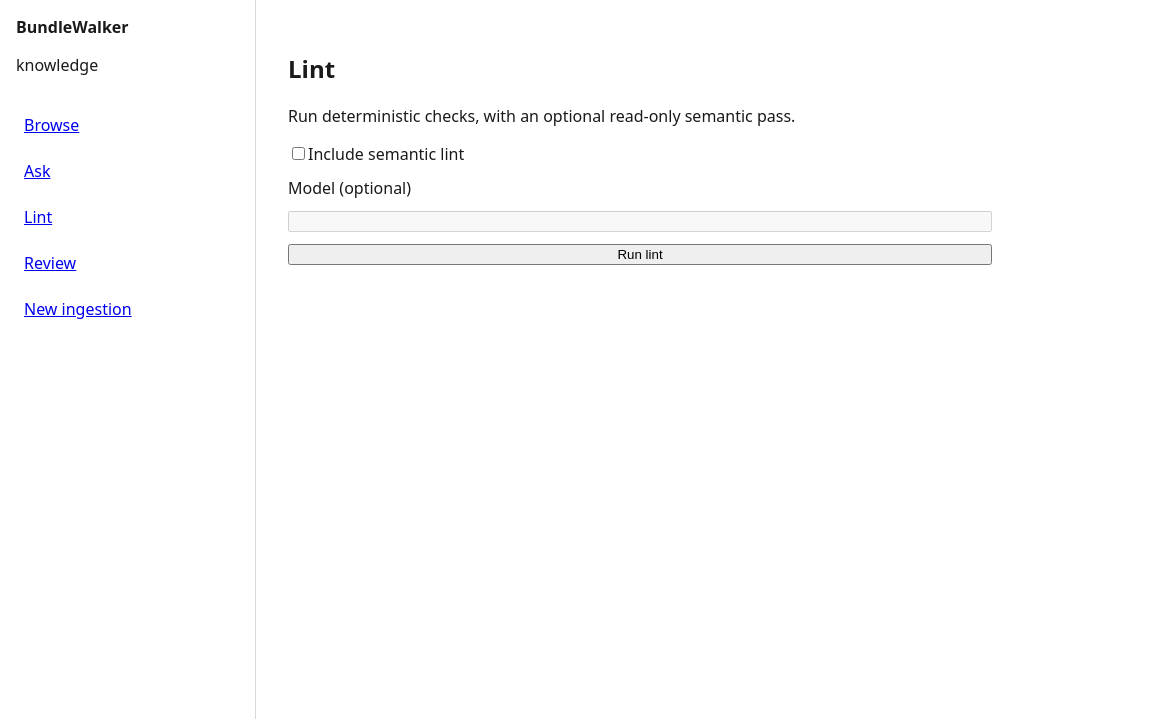
Test: shows lint progress and prevents duplicate runs
Click the button "Run lint" at (640,254), box [288,244,992,265]
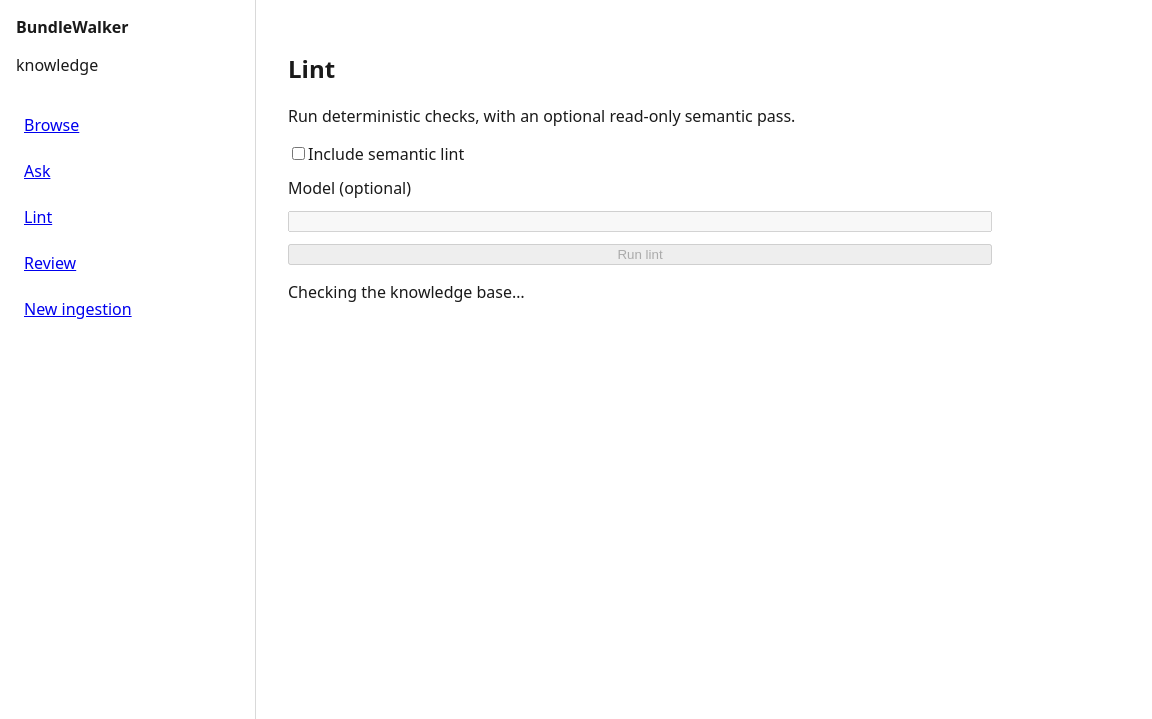
Check: the button "Run lint" is disabled
Check: the message shows "Checking the knowledge base", box [288,281,525,303]
Click the button "Run lint" at (640,254), box [288,244,992,265]
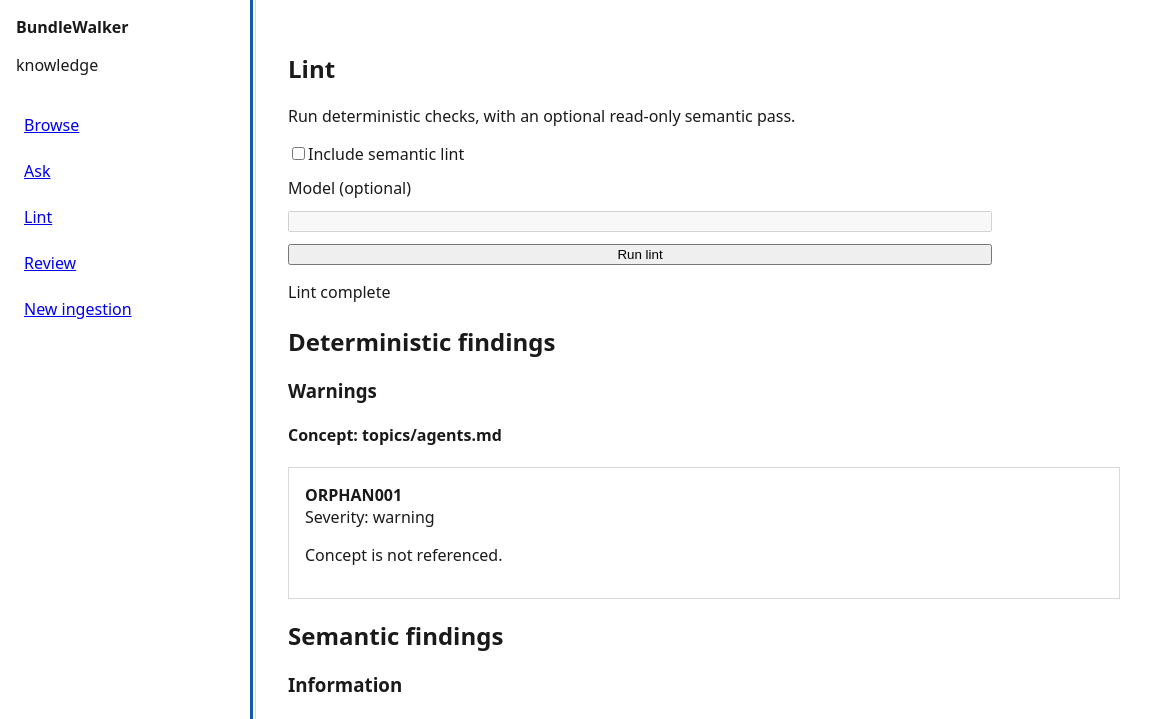
Check: the heading "Deterministic findings" is shown, box [288,325,555,358]
Check: the message reads "Lint complete", box [288,281,390,303]
